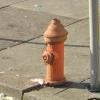a fire hydrant: (43, 20, 67, 84)
